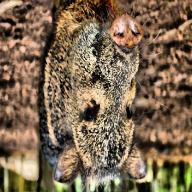boar: (40, 0, 149, 192)
